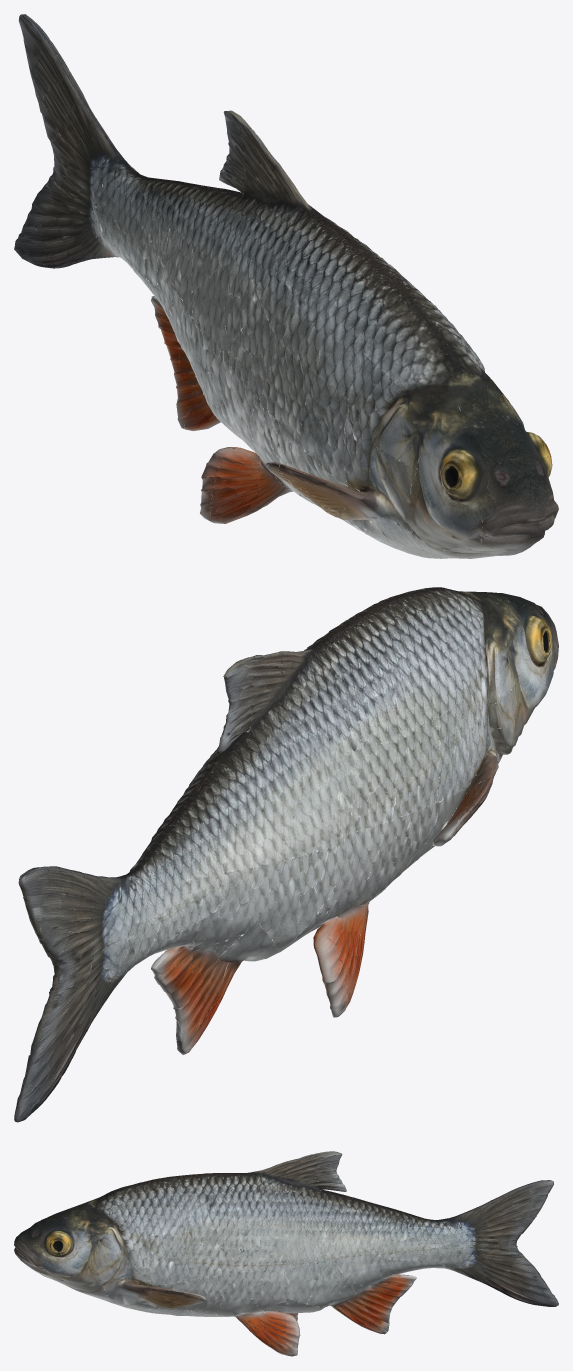
The model's file is jaz.glb.
3 renders of one model, top to bottom at view 1: azimuth 30°, elevation 25°; view 2: azimuth 150°, elevation 25°; view 3: azimuth 270°, elevation 25°, orthographic. The views are drawn at different scales.
Visible parts, largest first — view 1: Mesh_0; view 2: Mesh_0; view 3: Mesh_0.
Part boxes in pixels (x1=…): Mesh_0: x1=14, y1=14, x2=558, y2=558; Mesh_0: x1=14, y1=587, x2=558, y2=1122; Mesh_0: x1=14, y1=1151, x2=558, y2=1356.
Size of the model in its own units: 0.4027 by 0.7255 by 1.9.
1 material, 1 textured.
